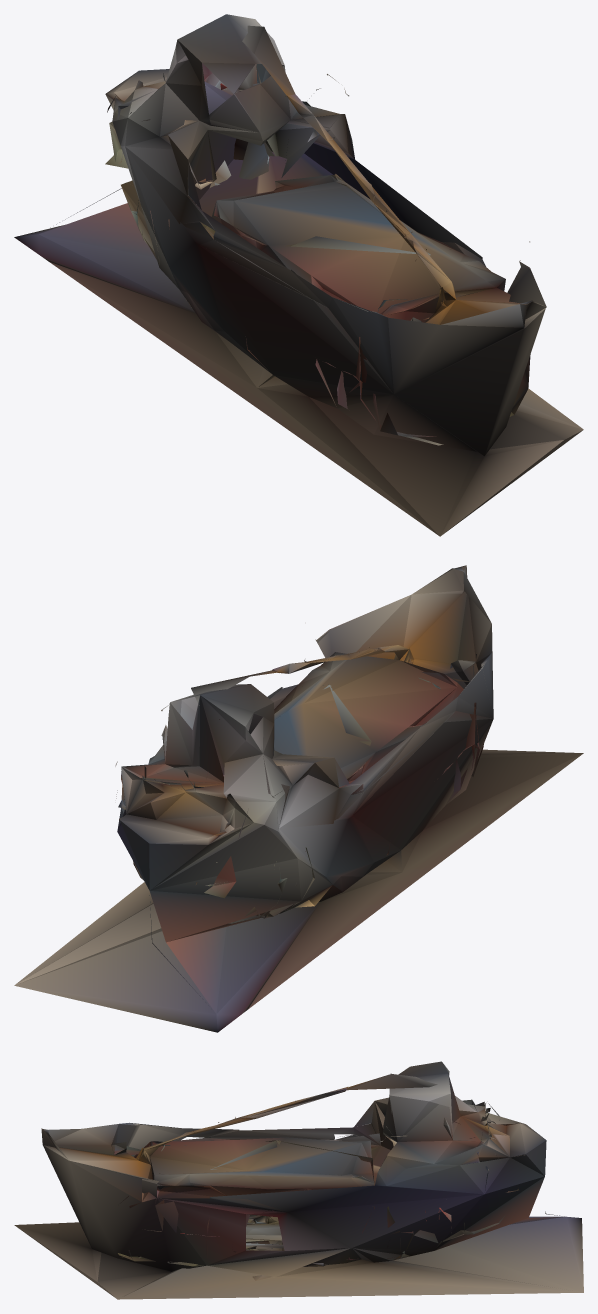
The model's file is ship.simplified.glb.
3 views of the same model, one above another, from view 1: azimuth 30°, elevation 25°; view 2: azimuth 150°, elevation 25°; view 3: azimuth 270°, elevation 25° (orthographic). The views are drawn at different scales.
Parts seen in each view (by area): view 1: boat; view 2: boat; view 3: boat.
Boxes of the visible parts, left/top/right/bottom form: boat: left=14, top=14, right=583, bottom=536; boat: left=14, top=565, right=583, bottom=1032; boat: left=14, top=1061, right=583, bottom=1299.
Bounding box in the file's own units: 4.51 × 4.96 × 13.77.
